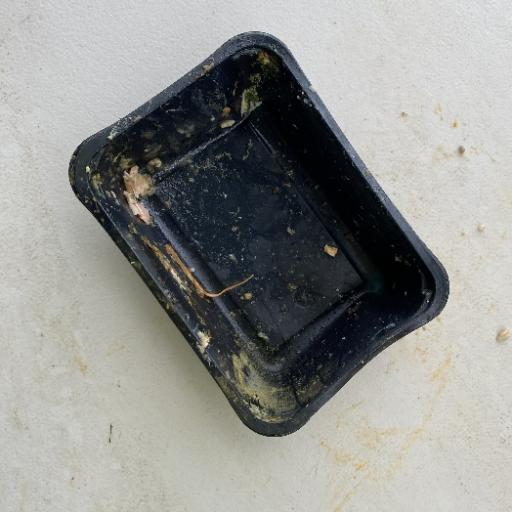Plastic: (66, 30, 450, 438)
